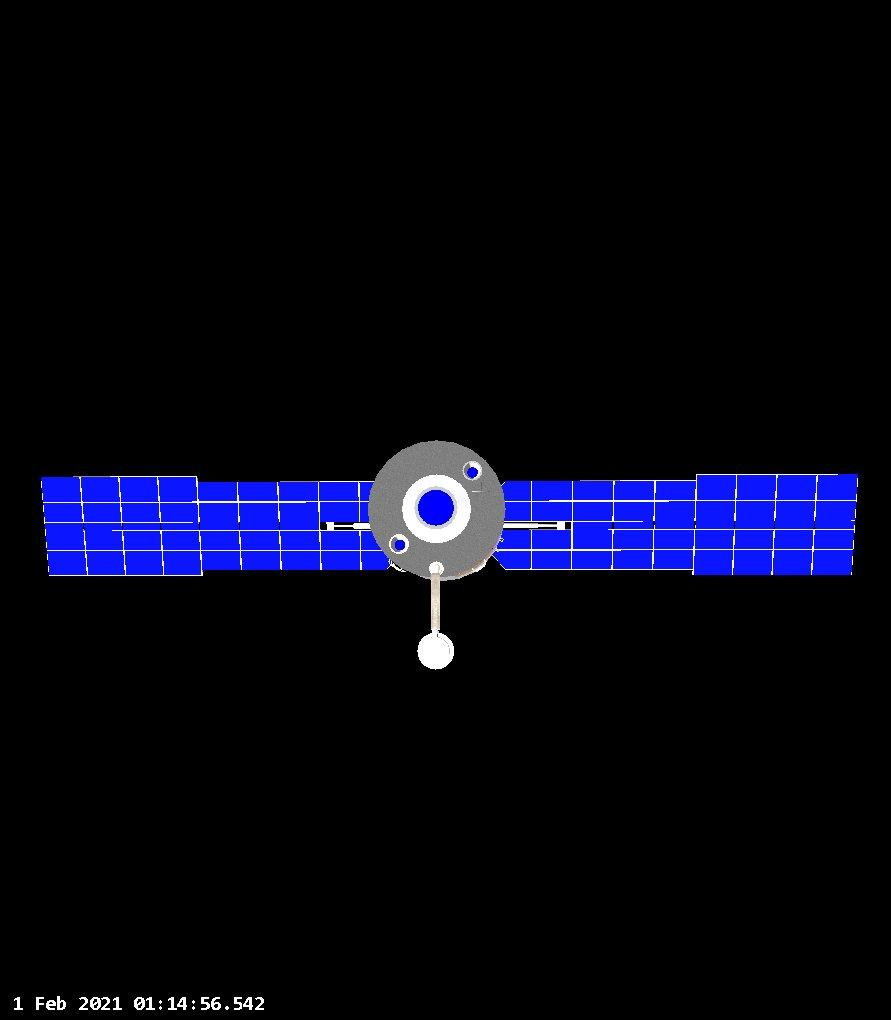antenna: (416, 630, 455, 669)
body: (368, 439, 504, 580)
solar: (37, 473, 394, 586), (484, 472, 861, 577)
